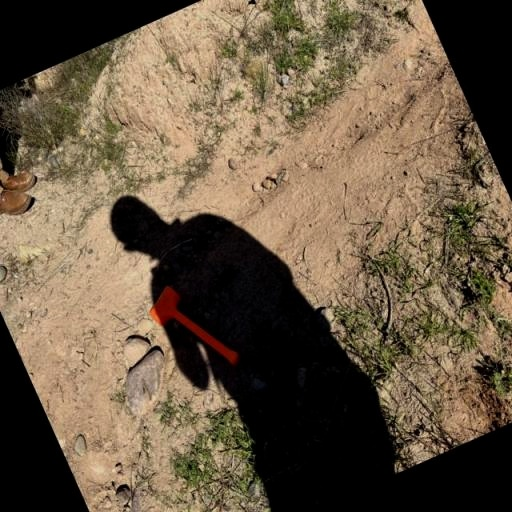mallet: (142, 269, 243, 390)
